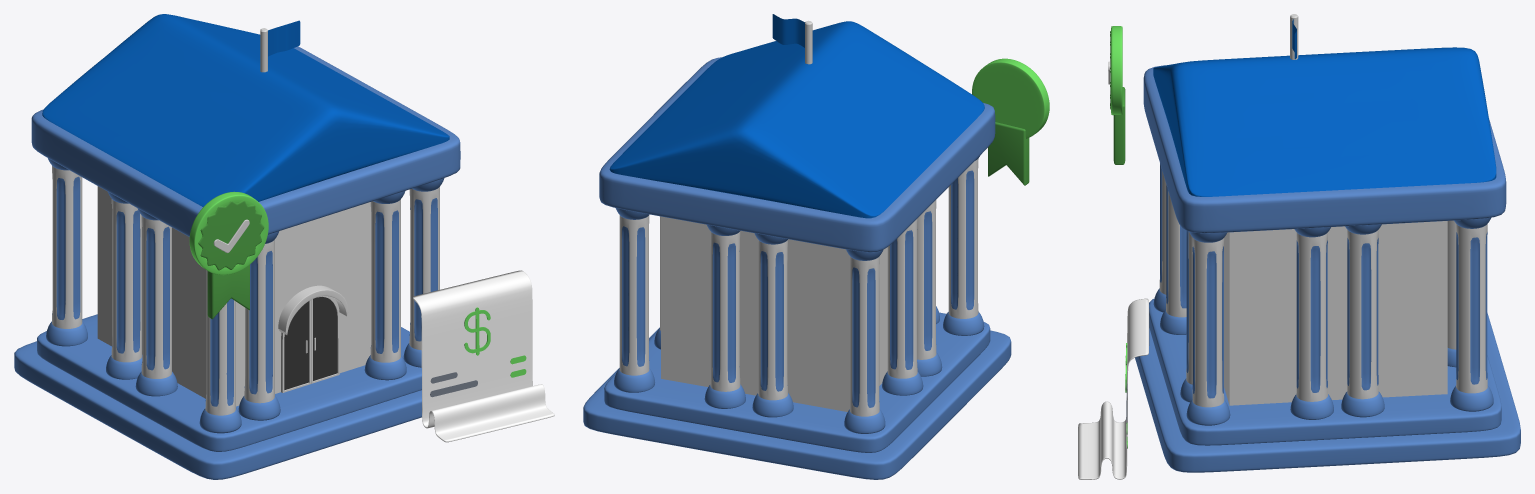
File: government-bond-3d-animated-icon-426565046789.glb
3 views of the same model, side by side, from view 1: azimuth 30°, elevation 25°; view 2: azimuth 150°, elevation 25°; view 3: azimuth 270°, elevation 25° (orthographic). The views are drawn at different scales.
Parts seen in each view (by area): view 1: Roof, Cylinder.002, Base, Building, Paper, Roof Base, Cube.004, Detail Base, Ribbon Base, Ribbon, Flag, Dollar Symbol; view 2: Roof, Cylinder.002, Base, Building, Roof Base, Ribbon Base, Ribbon, Flag; view 3: Roof, Cylinder.002, Building, Base, Roof Base, Paper, Ribbon Base, Ribbon.
Part boxes in pixels (x1=…): Roof: x1=42, y1=14, x2=449, y2=206; Cylinder.002: x1=46, y1=158, x2=444, y2=433; Base: x1=14, y1=314, x2=421, y2=479; Building: x1=97, y1=186, x2=371, y2=406; Paper: x1=413, y1=270, x2=554, y2=442; Roof Base: x1=31, y1=46, x2=460, y2=236; Cube.004: x1=278, y1=285, x2=348, y2=392; Detail Base: x1=198, y1=200, x2=264, y2=270; Ribbon Base: x1=189, y1=191, x2=268, y2=275; Ribbon: x1=207, y1=265, x2=249, y2=319; Flag: x1=268, y1=20, x2=300, y2=56; Dollar Symbol: x1=464, y1=307, x2=490, y2=355; Roof: x1=609, y1=21, x2=984, y2=218; Cylinder.002: x1=614, y1=156, x2=984, y2=433; Base: x1=583, y1=312, x2=1011, y2=479; Building: x1=661, y1=216, x2=887, y2=411; Roof Base: x1=599, y1=57, x2=995, y2=252; Ribbon Base: x1=972, y1=58, x2=1049, y2=138; Ribbon: x1=988, y1=122, x2=1029, y2=185; Flag: x1=772, y1=14, x2=804, y2=47; Roof: x1=1153, y1=47, x2=1496, y2=196; Cylinder.002: x1=1153, y1=163, x2=1493, y2=425; Building: x1=1224, y1=221, x2=1447, y2=405; Base: x1=1135, y1=299, x2=1520, y2=472; Roof Base: x1=1143, y1=65, x2=1506, y2=233; Paper: x1=1078, y1=298, x2=1149, y2=479; Ribbon Base: x1=1111, y1=26, x2=1122, y2=115; Ribbon: x1=1113, y1=87, x2=1125, y2=164.
Size of the model in its own units: 1.85 by 1.82 by 1.93.
